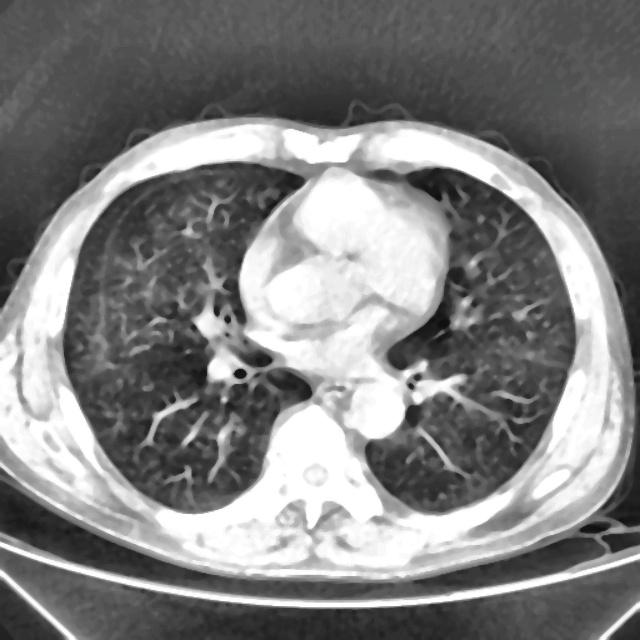covid: (1, 112, 635, 583)
